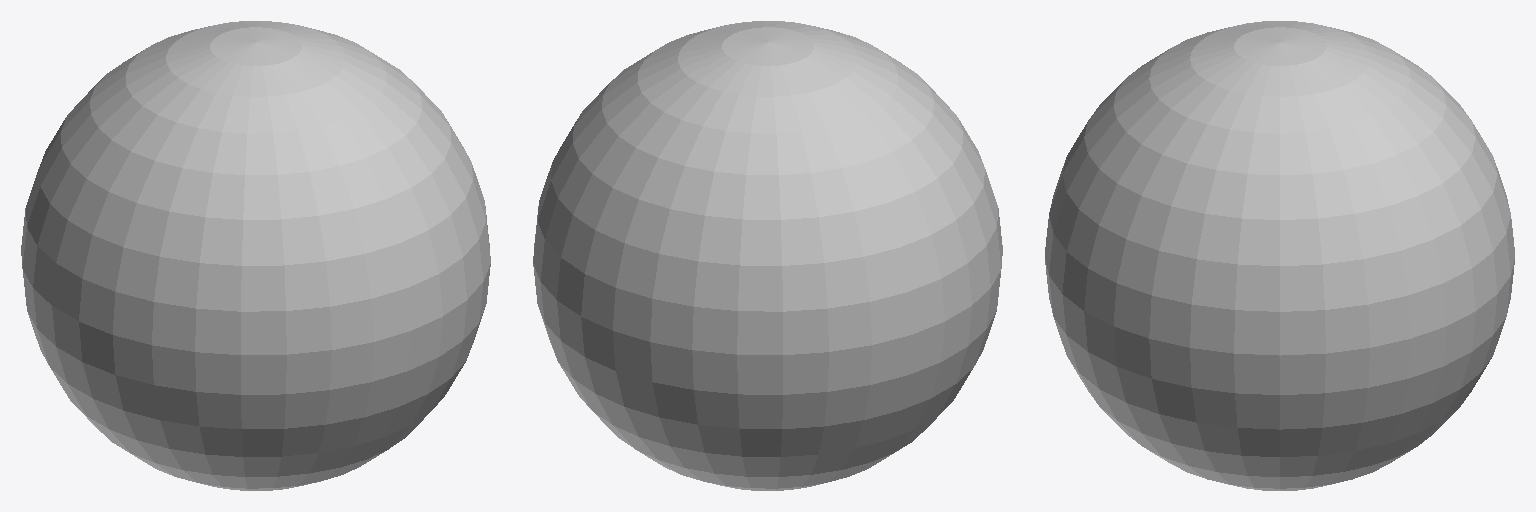
The model's file is big_sphere.obj.
3 views of the same model, side by side, from view 1: azimuth 30°, elevation 25°; view 2: azimuth 150°, elevation 25°; view 3: azimuth 270°, elevation 25° (orthographic).
Parts seen in each view (by area): view 1: Sphere; view 2: Sphere; view 3: Sphere.
Boxes of the visible parts, <box> form: Sphere: <box>21,21,490,490</box>; Sphere: <box>533,21,1002,490</box>; Sphere: <box>1045,21,1514,490</box>.
Size of the model in its own units: 3.68 by 3.68 by 3.68.